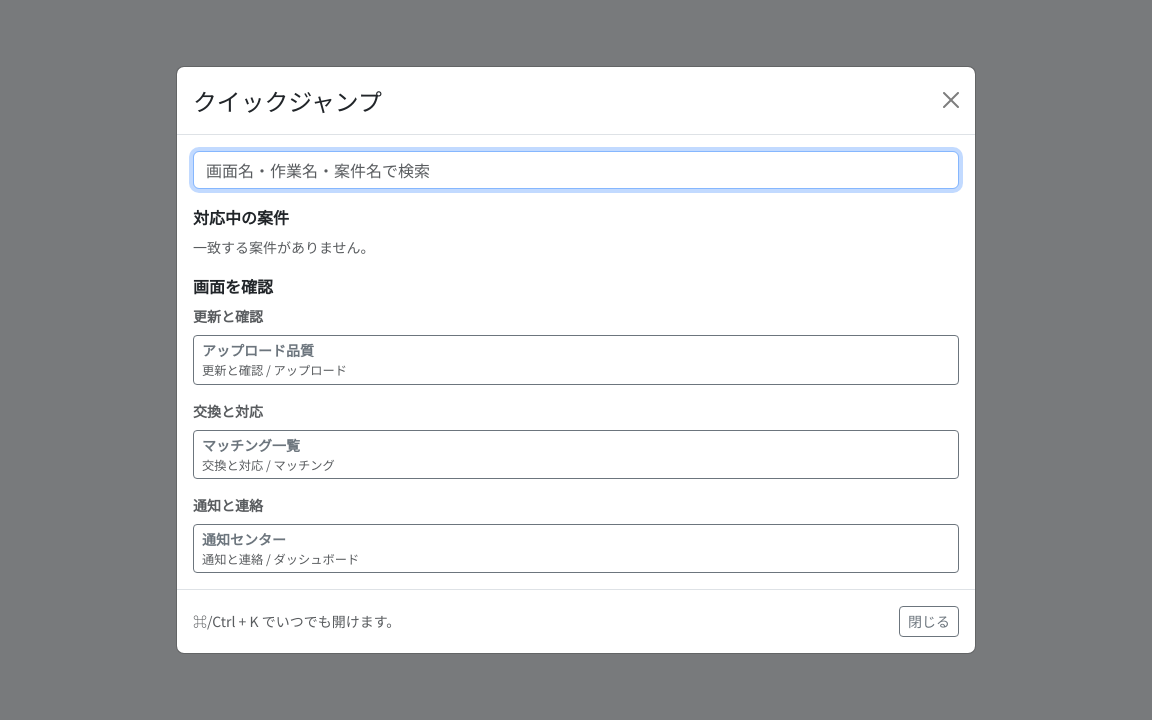
QuickJumpPalette › switches to search-result mode when query is entered
Type "通知" into the field named "クイックジャンプ検索" at (576, 170), box [193,151,959,189]
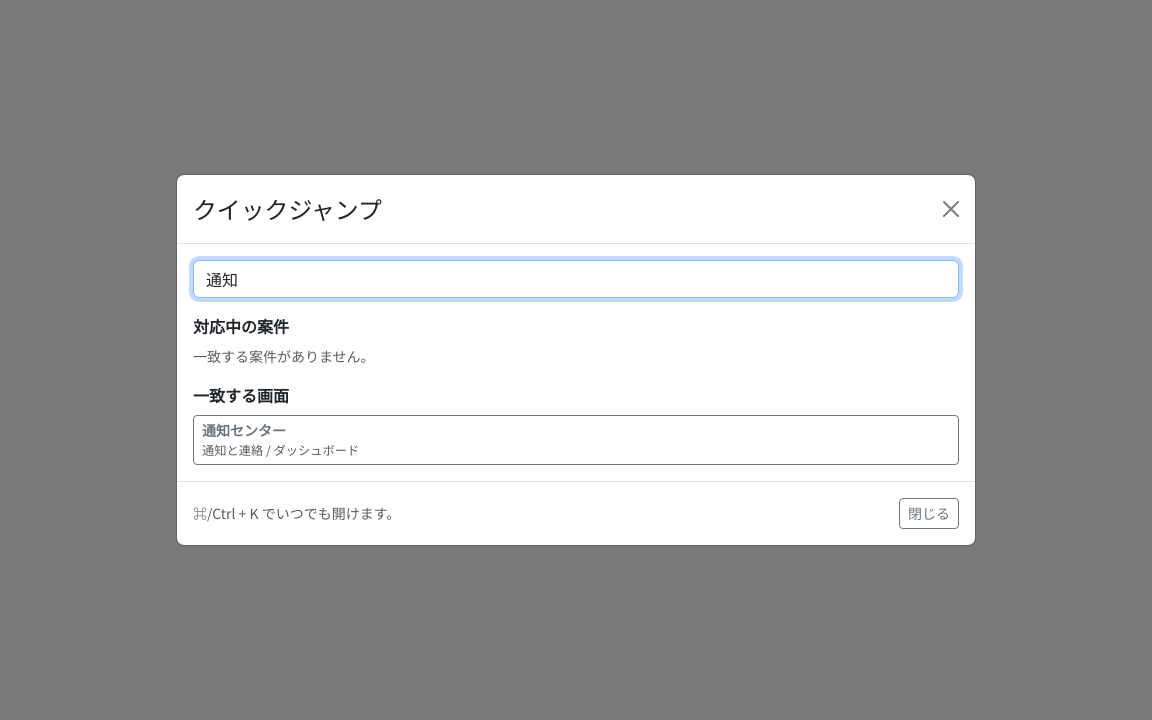
Expected: the text "通知センター" is shown, [202,420,286,440]
Now the text "一致する画面" is shown, box [193,383,289,407]
